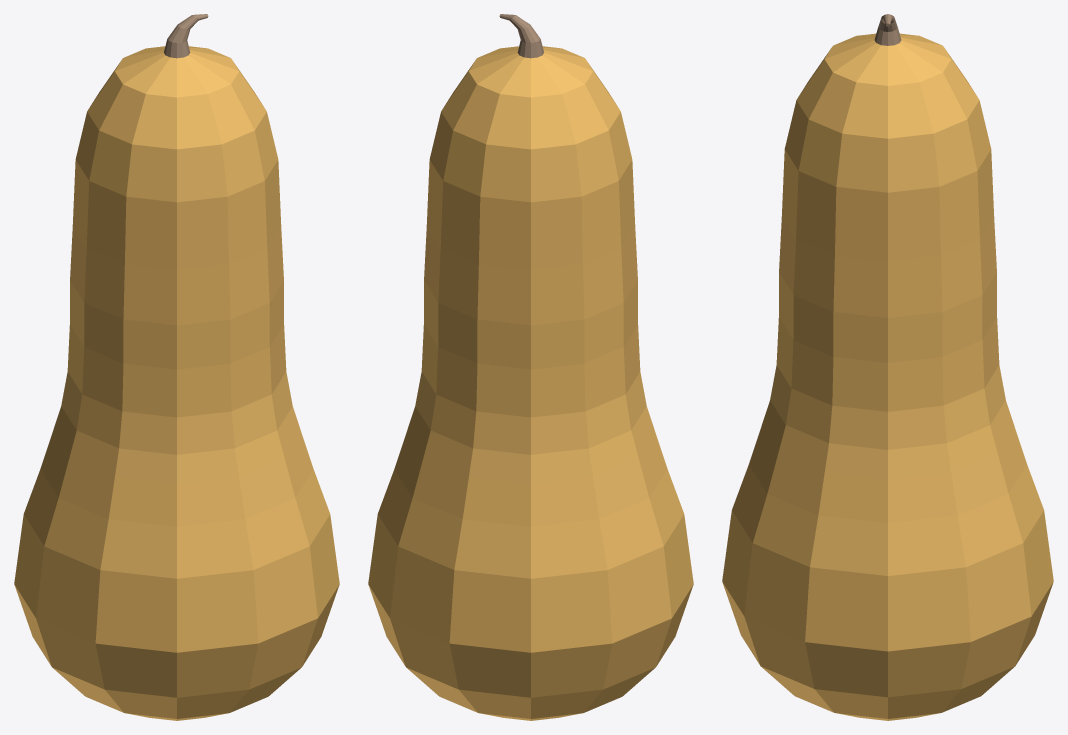
File: butternut.glb
The picture shows the model from 3 angles, left to right: view 1: azimuth 30°, elevation 25°; view 2: azimuth 150°, elevation 25°; view 3: azimuth 270°, elevation 25°; orthographic projection.
Parts seen in each view (by area): view 1: butternut; view 2: butternut; view 3: butternut.
Boxes of the visible parts, bbox=[...] form: butternut: bbox=[14, 14, 339, 720]; butternut: bbox=[368, 14, 693, 720]; butternut: bbox=[722, 14, 1053, 720].
Bounding box in the file's own units: 0.8329 × 1.94 × 0.8329.
1 material, 1 textured.
